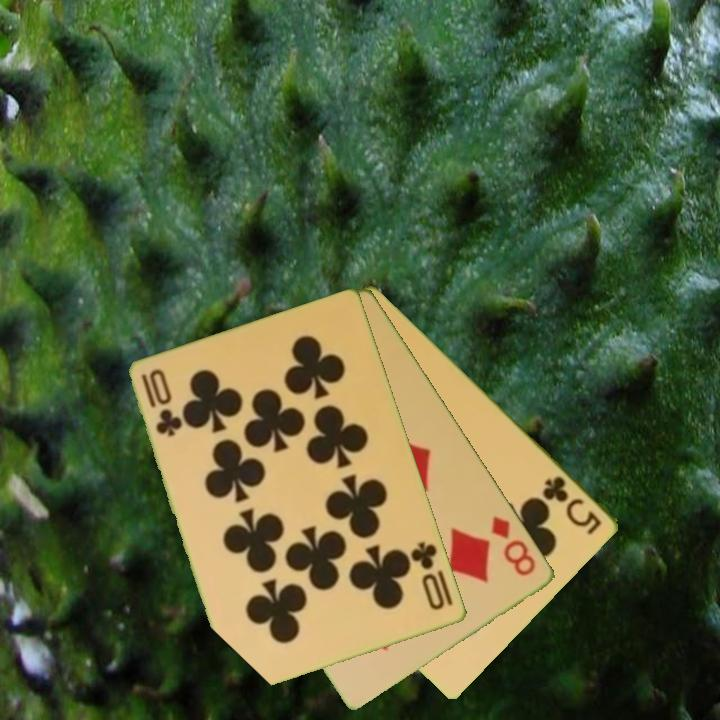10c: (138, 365, 184, 440), (407, 538, 448, 614)
5c: (539, 472, 606, 538)
8d: (488, 512, 540, 579)
